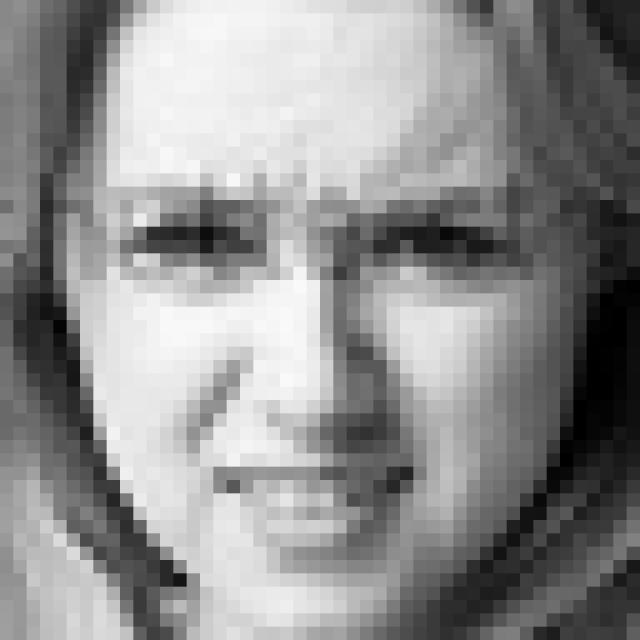disgust: (107, 177, 528, 564)
